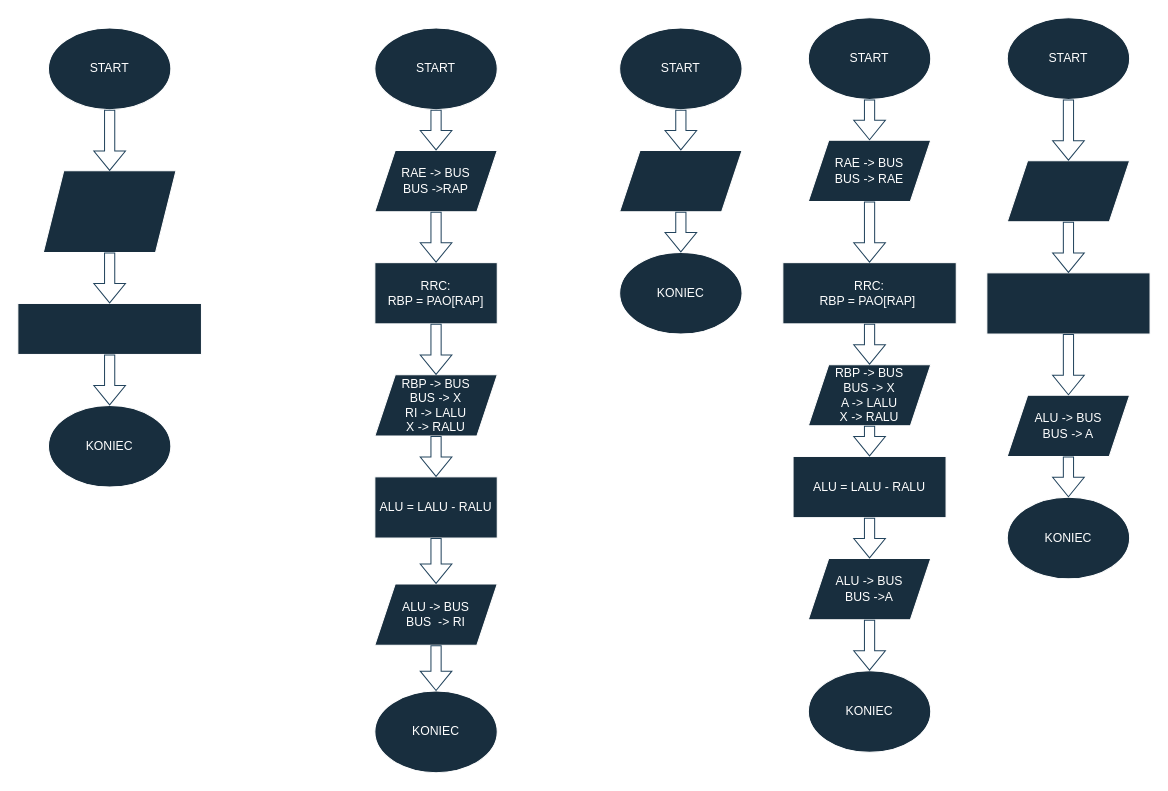
Some shapes in this 1168 by 791 pixel diagram are drawn without their labels. The shapes that lost their labels are listed below. From the top down, each one's centre as x and y in pixels, then its label:
(680,180): SUMA -> RAE RAE -> BUS BUS -> A
(1068,191): A -> LALU
(109,211): RAE -> BUS BUS -> RAP A -> BUS BUS -> RBP
(1068,303): CMA: ALU = (NOT LALU) + 1 ZNAK = 1
(109,328): CWC: PAO[RAP] = RBP
